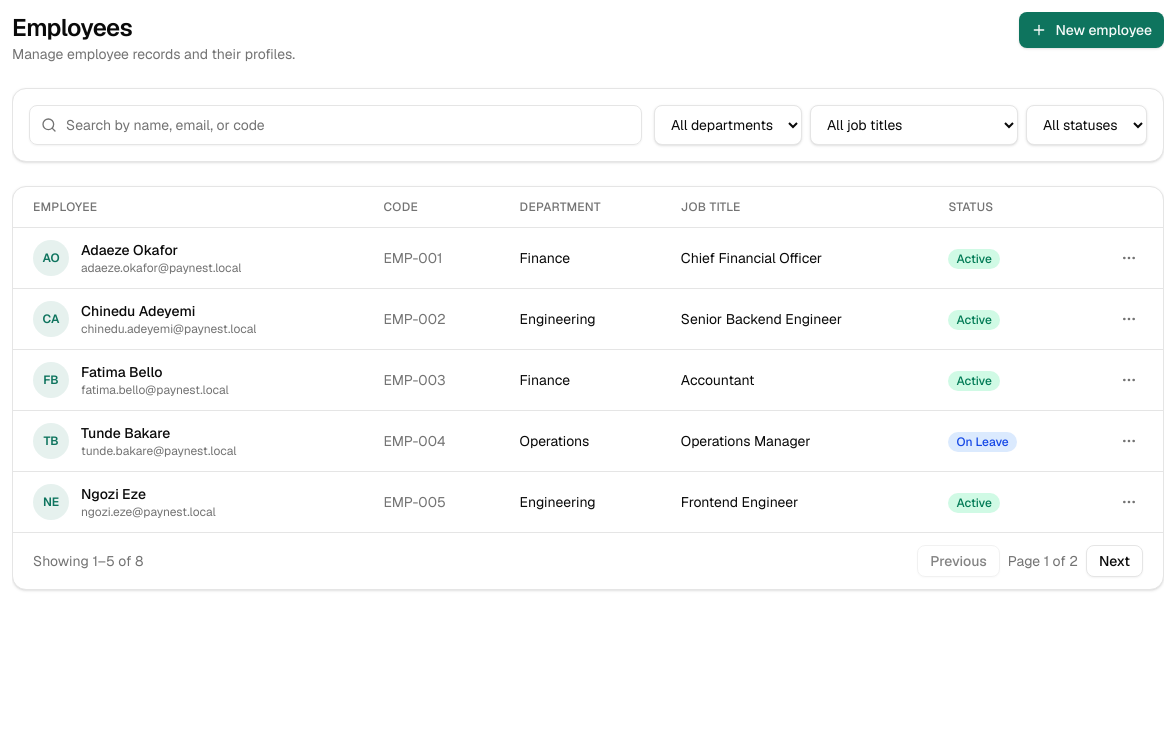
Test case: employees list › filters by job title
The width and height of the screenshot is (1164, 732).
Select "HR Officer" in the dropdown named "Filter by job title": point(914, 125) [810, 105, 1018, 145]
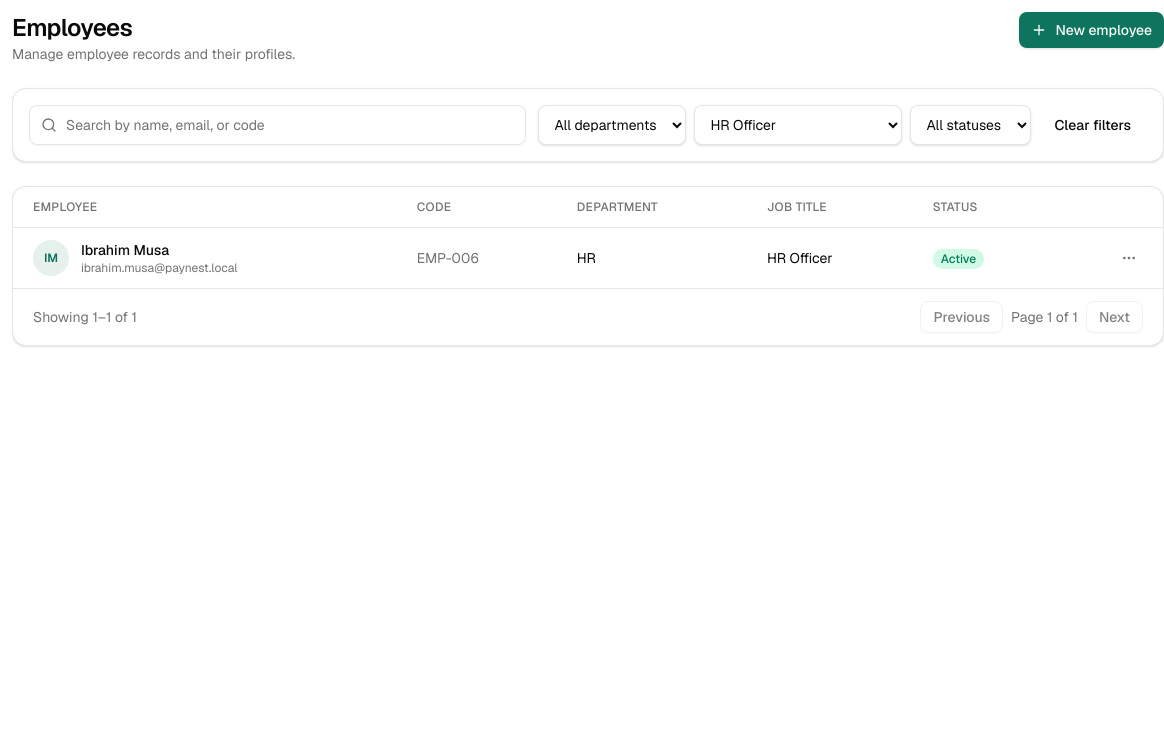
Check: the text "Ibrahim Musa" is shown, box [81, 241, 169, 259]
Check: the text "Showing 1–1 of 1" is shown, box [33, 307, 137, 327]
